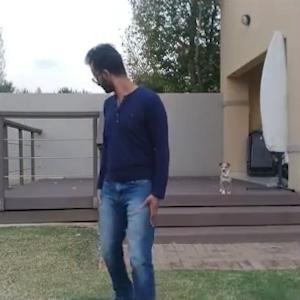follow: (65, 27, 171, 294)
